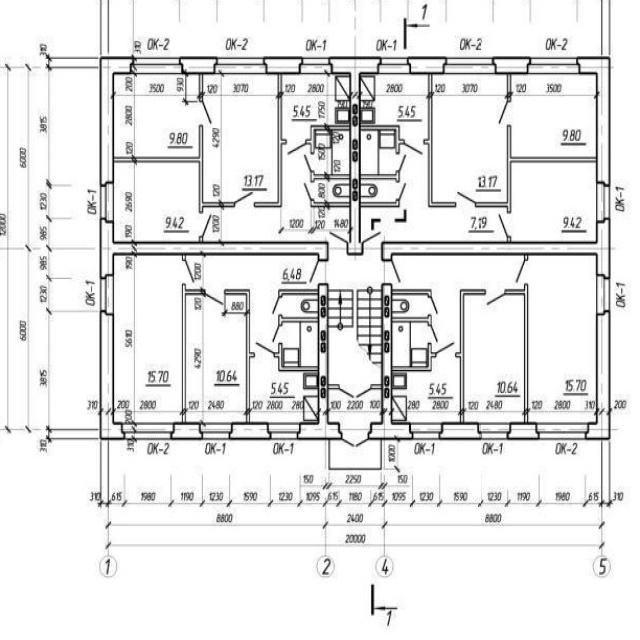Bathrooms: (393, 323, 428, 366), (315, 130, 349, 173), (361, 131, 395, 174), (283, 323, 317, 366), (393, 295, 428, 318), (282, 295, 318, 317), (315, 179, 349, 201), (362, 180, 396, 202)
Corridors: (361, 144, 508, 242), (203, 145, 349, 242), (186, 256, 318, 352), (392, 256, 524, 352), (329, 390, 381, 421), (329, 255, 381, 285), (329, 441, 381, 469)
Doors: (339, 423, 370, 448), (382, 260, 405, 284), (362, 228, 382, 255), (327, 228, 347, 254), (308, 260, 329, 284), (339, 384, 370, 399), (495, 100, 511, 125), (403, 139, 424, 158), (434, 339, 456, 357), (182, 259, 197, 285), (485, 290, 505, 309), (199, 99, 213, 126), (455, 189, 476, 207), (199, 212, 214, 237), (286, 139, 306, 157), (234, 190, 255, 207), (514, 260, 528, 285), (496, 213, 511, 236), (205, 290, 224, 308), (255, 339, 275, 356), (428, 295, 441, 315), (428, 323, 441, 343), (396, 153, 408, 173), (301, 153, 314, 171), (302, 181, 314, 200), (270, 296, 282, 315), (271, 324, 282, 344), (396, 181, 407, 200)
LBwalls: (380, 217, 611, 279), (100, 217, 329, 279), (329, 56, 381, 256), (297, 283, 343, 441), (368, 283, 413, 440), (99, 56, 134, 187), (576, 56, 611, 187), (584, 310, 612, 441), (99, 310, 126, 441), (228, 421, 272, 441), (439, 421, 481, 441), (406, 56, 447, 75), (179, 56, 218, 75), (263, 56, 303, 74), (492, 56, 532, 74), (506, 421, 541, 441), (170, 422, 204, 441)
Offices: (529, 256, 596, 422), (115, 255, 181, 422), (433, 75, 507, 202), (204, 75, 277, 201), (186, 294, 245, 422), (465, 295, 524, 421), (512, 74, 596, 157), (114, 75, 198, 157), (114, 163, 199, 241), (512, 163, 596, 241), (250, 357, 318, 422), (361, 75, 428, 139), (283, 74, 350, 138), (393, 357, 460, 421)
Stairs: (329, 285, 381, 384)
Walls: (475, 125, 596, 214), (114, 125, 235, 214), (423, 74, 457, 208), (253, 75, 287, 208), (454, 288, 486, 422), (224, 289, 255, 422), (182, 283, 206, 423), (505, 283, 528, 423), (360, 107, 405, 154), (306, 107, 351, 154), (392, 342, 436, 389), (273, 343, 318, 388), (361, 169, 400, 183), (311, 170, 349, 183), (278, 314, 317, 326), (392, 315, 432, 326), (311, 198, 350, 208), (393, 289, 432, 298), (361, 198, 399, 207), (278, 289, 318, 297), (507, 74, 511, 103), (199, 74, 202, 101), (329, 384, 339, 390), (370, 384, 381, 389), (524, 255, 528, 262), (199, 236, 203, 242), (507, 236, 511, 242)
Windows: (537, 422, 588, 440), (122, 422, 173, 439), (132, 58, 183, 74), (215, 57, 266, 73), (445, 57, 496, 73), (529, 58, 579, 74), (596, 275, 610, 314), (100, 275, 114, 314), (200, 423, 231, 440), (410, 422, 441, 439), (478, 422, 509, 439), (596, 183, 610, 220), (300, 58, 332, 74), (378, 58, 410, 73), (269, 423, 299, 439), (101, 184, 114, 220)
